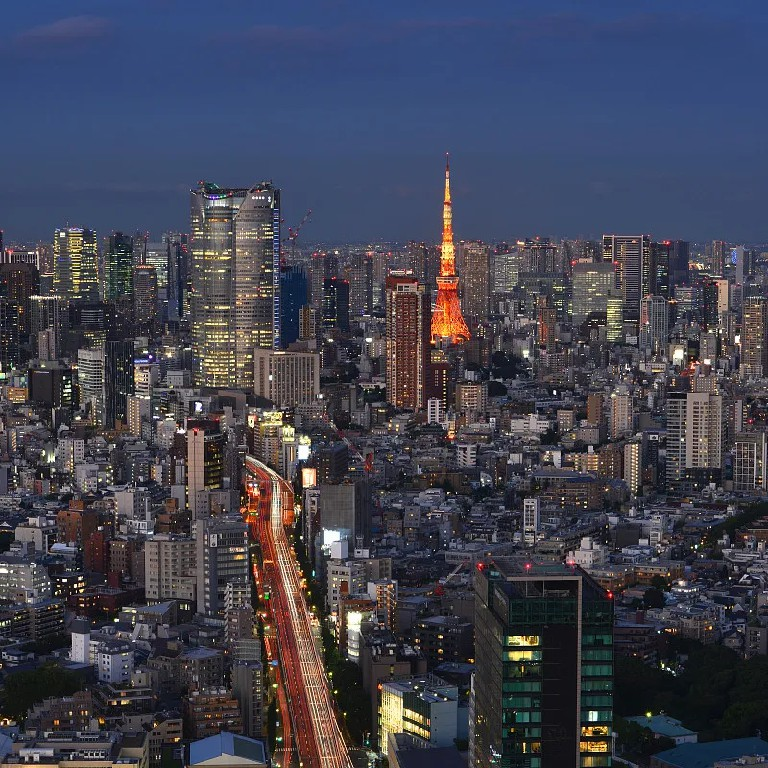Tokyo: (429, 150, 474, 347)
